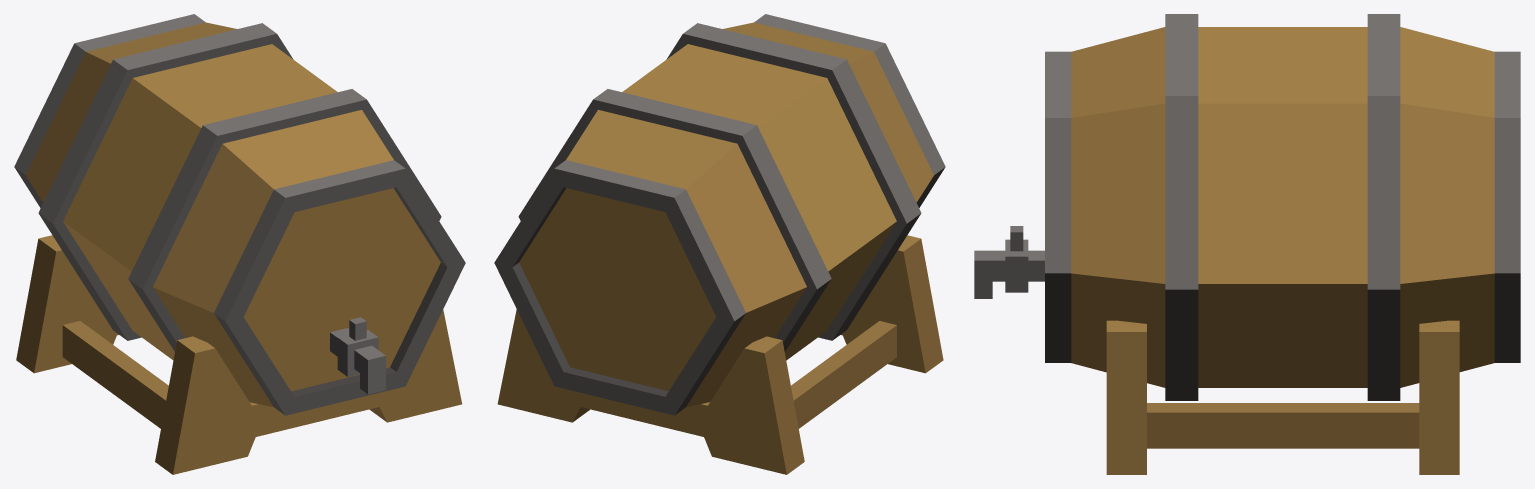
Rendered from Barrel_Ale.gltf.
The picture shows the model from 3 angles, left to right: view 1: azimuth 30°, elevation 25°; view 2: azimuth 150°, elevation 25°; view 3: azimuth 270°, elevation 25°; orthographic projection. The views are drawn at different scales.
Visible parts, largest first — view 1: SF_Prop_Barrel_Ale_01; view 2: SF_Prop_Barrel_Ale_01; view 3: SF_Prop_Barrel_Ale_01.
Boxes of the visible parts, left/top/right/bottom form: SF_Prop_Barrel_Ale_01: left=14, top=14, right=465, bottom=474; SF_Prop_Barrel_Ale_01: left=494, top=14, right=945, bottom=474; SF_Prop_Barrel_Ale_01: left=974, top=14, right=1520, bottom=474.
Bounding box in the file's own units: 0.0138 × 0.0134 × 0.0195.
1 material, 1 textured.
